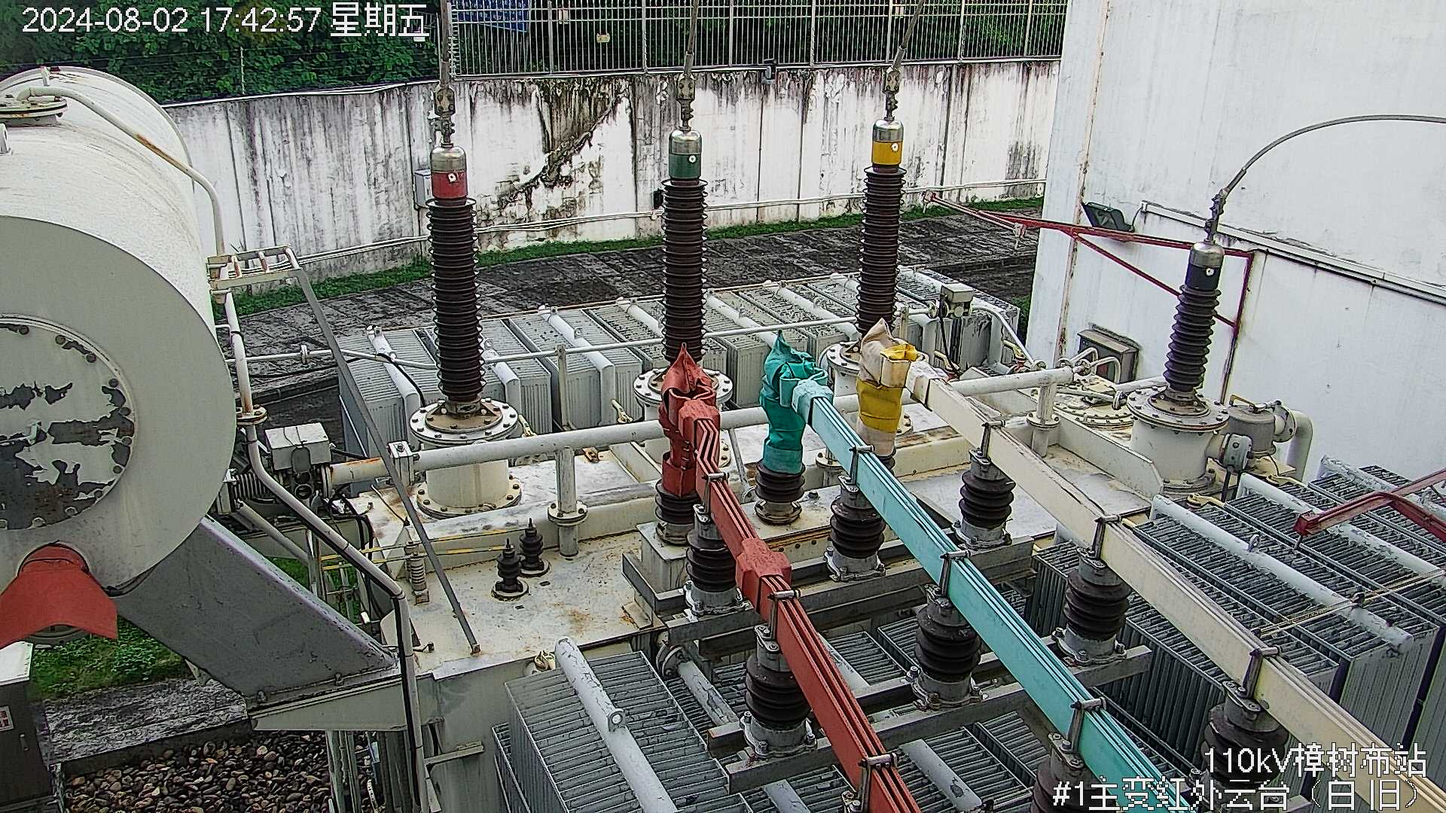MainTR: (0, 59, 1445, 813)
